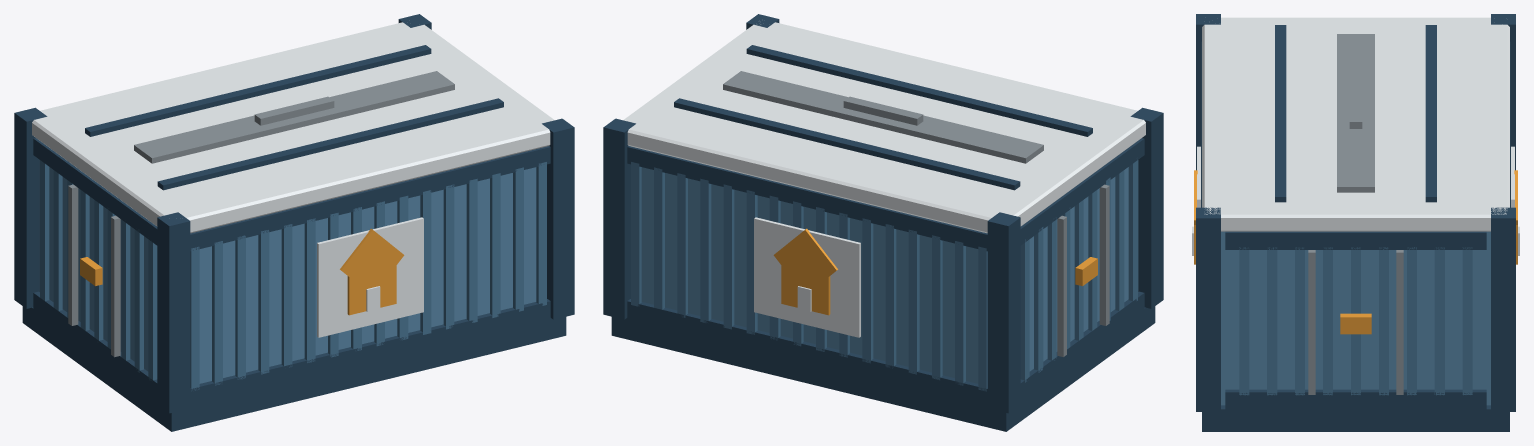
Rendered from family_crate.glb.
The picture shows the model from 3 angles, left to right: view 1: azimuth 30°, elevation 25°; view 2: azimuth 150°, elevation 25°; view 3: azimuth 270°, elevation 25°; orthographic projection. The views are drawn at different scales.
Visible parts, largest first — view 1: LidBoard, Panel.001, Pallet, Badge.001, SkirtL.001, Post, SkirtU.001, LidRoofMid, Post.002, Post.001, Panel.003, LidRib (+30 smaller); view 2: LidBoard, Panel, Pallet, Badge, SkirtL, Post.001, LidRoofMid, SkirtU, Post.003, Post, Panel.003, LidRib.001 (+30 smaller); view 3: LidBoard, Panel.002, Pallet, LidRoofMid, Post.003, Post.002, SkirtL.002, SkirtU.002, LidRib, LidRib.001, Corr.032, Corr.039 (+15 smaller).
Part boxes in pixels (left/top/right/bottom): LidBoard: left=32, top=22, right=554, bottom=233; Panel.001: left=199, top=167, right=536, bottom=383; Pallet: left=22, top=306, right=566, bottom=431; Badge.001: left=317, top=217, right=423, bottom=337; SkirtL.001: left=190, top=299, right=550, bottom=405; Post: left=157, top=212, right=190, bottom=413; SkirtU.001: left=190, top=146, right=550, bottom=251; LidRoofMid: left=134, top=71, right=454, bottom=163; Post.002: left=542, top=118, right=574, bottom=319; Post.001: left=14, top=107, right=47, bottom=308; Panel.003: left=49, top=167, right=148, bottom=371; LidRib: left=157, top=98, right=503, bottom=190; LidBoard: left=623, top=22, right=1145, bottom=233; Panel: left=641, top=167, right=978, bottom=383; Pallet: left=611, top=306, right=1155, bottom=431; Badge: left=754, top=217, right=860, bottom=337; SkirtL: left=627, top=299, right=987, bottom=405; Post.001: left=987, top=212, right=1020, bottom=413; LidRoofMid: left=723, top=71, right=1043, bottom=163; SkirtU: left=627, top=146, right=987, bottom=251; Post.003: left=603, top=118, right=635, bottom=319; Post: left=1130, top=107, right=1163, bottom=308; Panel.003: left=1029, top=167, right=1128, bottom=371; LidRib.001: left=674, top=98, right=1020, bottom=190; LidBoard: left=1202, top=17, right=1509, bottom=231; Panel.002: left=1225, top=250, right=1486, bottom=389; Pallet: left=1202, top=405, right=1509, bottom=431; LidRoofMid: left=1337, top=34, right=1374, bottom=192; Post.003: left=1491, top=207, right=1515, bottom=411; Post.002: left=1196, top=207, right=1220, bottom=411; SkirtL.002: left=1225, top=389, right=1486, bottom=409; SkirtU.002: left=1225, top=231, right=1486, bottom=249; LidRib: left=1275, top=25, right=1286, bottom=202; LidRib.001: left=1425, top=25, right=1436, bottom=202; Corr.032: left=1239, top=247, right=1249, bottom=395; Corr.039: left=1434, top=247, right=1444, bottom=395.
Bounding box in the file's own units: 0.786 × 0.4025 × 0.522.
